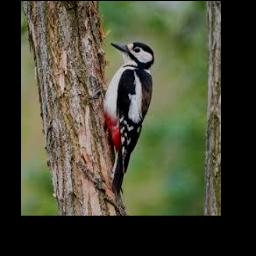Woodpecker: (103, 43, 155, 196)
